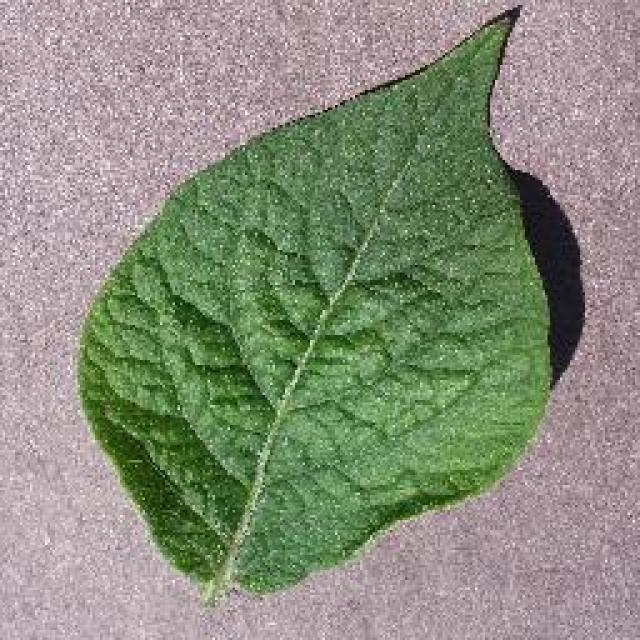healthy: (70, 3, 568, 605)
